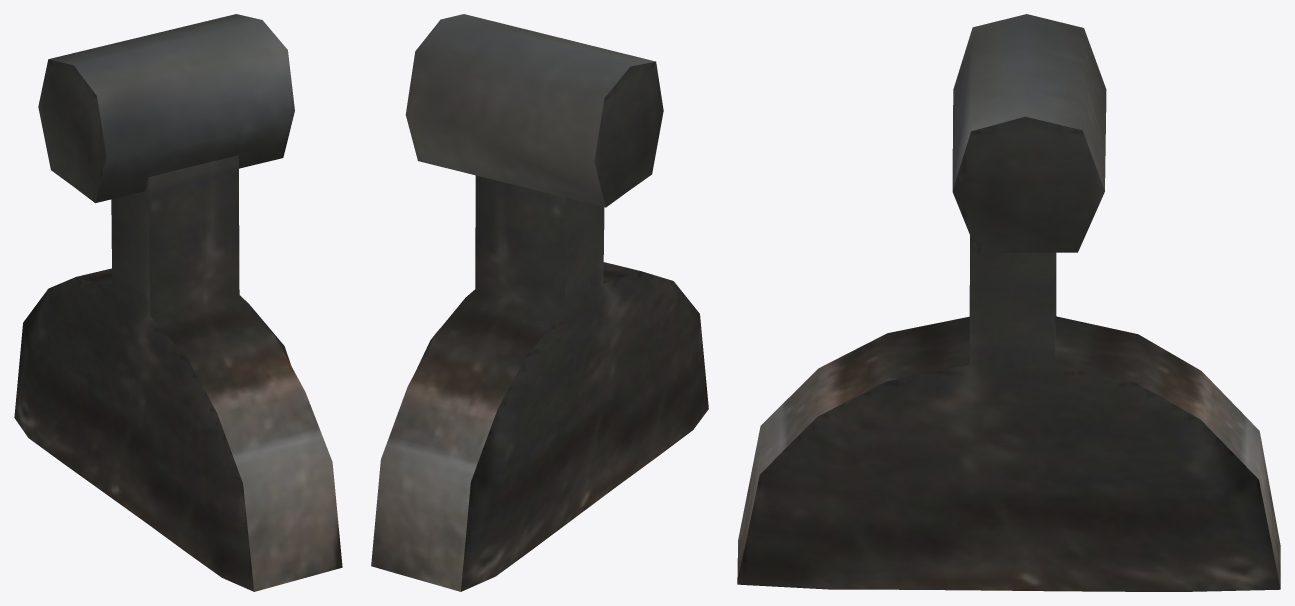
File: Unity2Skfb.gltf
3 views of the same model, side by side, from view 1: azimuth 30°, elevation 25°; view 2: azimuth 150°, elevation 25°; view 3: azimuth 270°, elevation 25° (orthographic). The views are drawn at different scales.
Visible parts, largest first — view 1: node_A11_-9366; view 2: node_A11_-9366; view 3: node_A11_-9366.
Boxes of the visible parts, <box> form: node_A11_-9366: <box>14,14,342,591</box>; node_A11_-9366: <box>371,14,708,591</box>; node_A11_-9366: <box>737,14,1280,591</box>.
Bounding box in the file's own units: 0.0318 × 0.0716 × 0.0702.
1 material, 1 textured.
